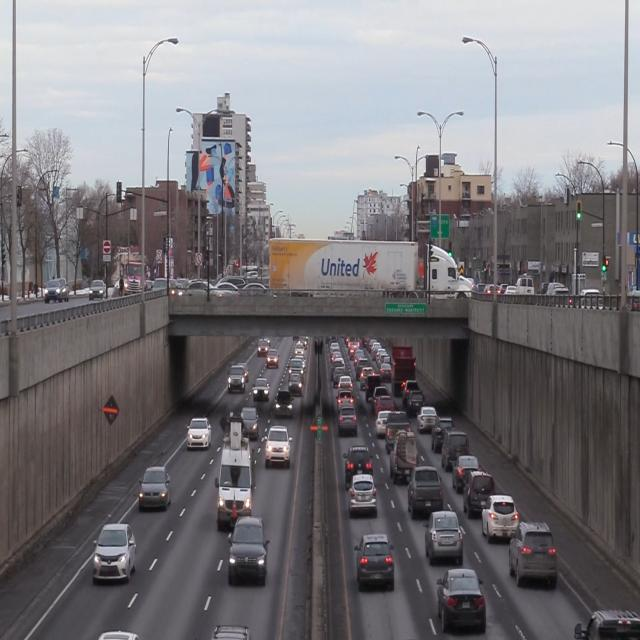Car: (216, 416, 253, 530), (435, 569, 487, 633), (508, 520, 556, 589), (228, 516, 271, 588), (94, 522, 138, 584), (356, 534, 396, 589), (424, 510, 463, 564), (407, 466, 444, 518), (481, 494, 518, 542), (139, 465, 173, 512), (463, 472, 496, 519), (389, 433, 418, 485), (264, 426, 292, 470), (348, 475, 377, 517), (344, 443, 374, 474), (187, 416, 212, 452), (241, 406, 260, 439), (227, 364, 246, 394), (275, 390, 293, 417), (253, 377, 271, 401)
